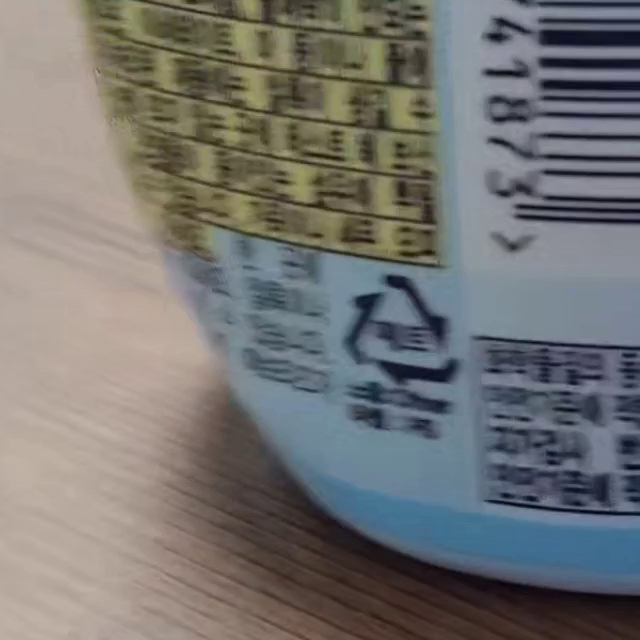Plastic: (342, 273, 460, 386)
